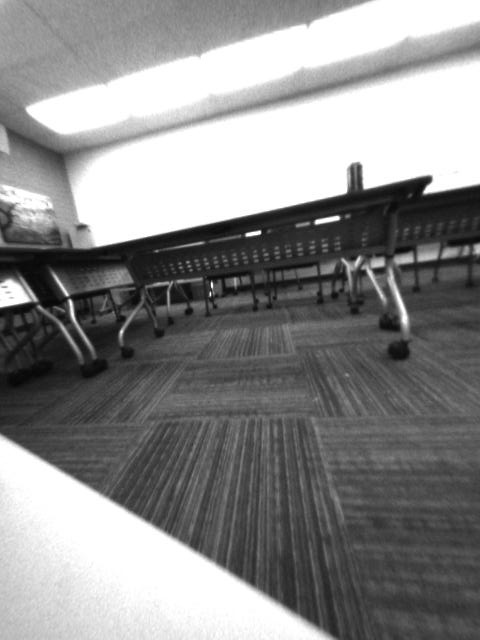can: (344, 156, 366, 196)
